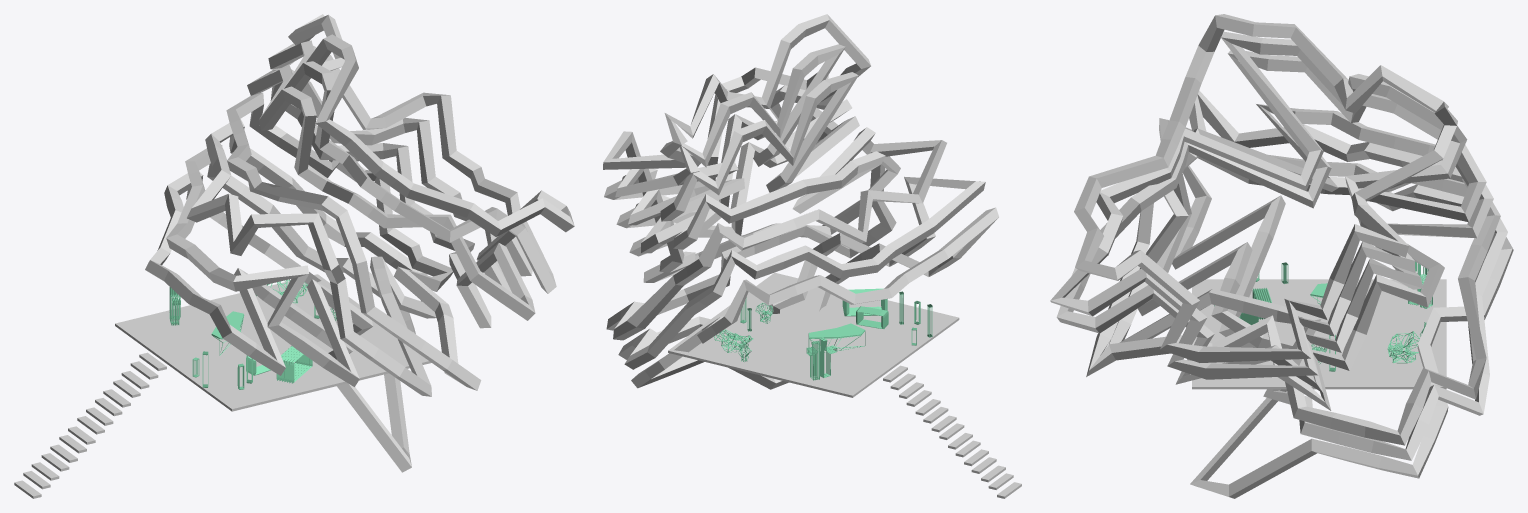
File: Сцена1.fbx
3 renders of one model, left to right at view 1: azimuth 30°, elevation 25°; view 2: azimuth 150°, elevation 25°; view 3: azimuth 270°, elevation 25°, orthographic. The views are drawn at different scales.
Visible parts, largest first — view 1: FullScene; view 2: FullScene; view 3: FullScene.
Boxes of the visible parts, bbox=[...] form: FullScene: bbox=[14, 14, 574, 498]; FullScene: bbox=[603, 14, 1021, 498]; FullScene: bbox=[1050, 14, 1513, 498].
Bounding box in the file's own units: 2169 × 1847 × 1704.
